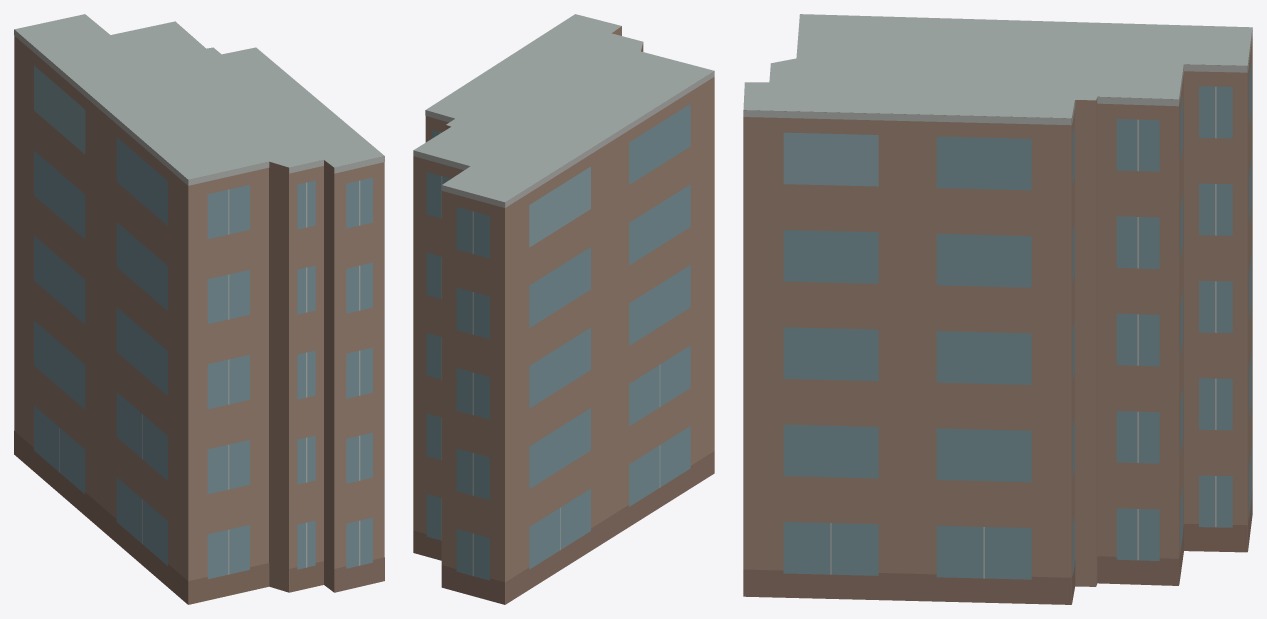
Rendered from survey-upis-32564700.glb.
3 renders of one model, left to right at view 1: azimuth 30°, elevation 25°; view 2: azimuth 150°, elevation 25°; view 3: azimuth 270°, elevation 25°, orthographic. The views are drawn at different scales.
Visible parts, largest first — view 1: survey-upis-32564700.tmp; view 2: survey-upis-32564700.tmp; view 3: survey-upis-32564700.tmp.
Boxes of the visible parts, box(x1,y1,x2,y2) form: survey-upis-32564700.tmp: box(14, 14, 384, 604); survey-upis-32564700.tmp: box(413, 14, 714, 604); survey-upis-32564700.tmp: box(743, 14, 1252, 604).
Bounding box in the file's own units: 7.87 × 17.1 × 16.22.
